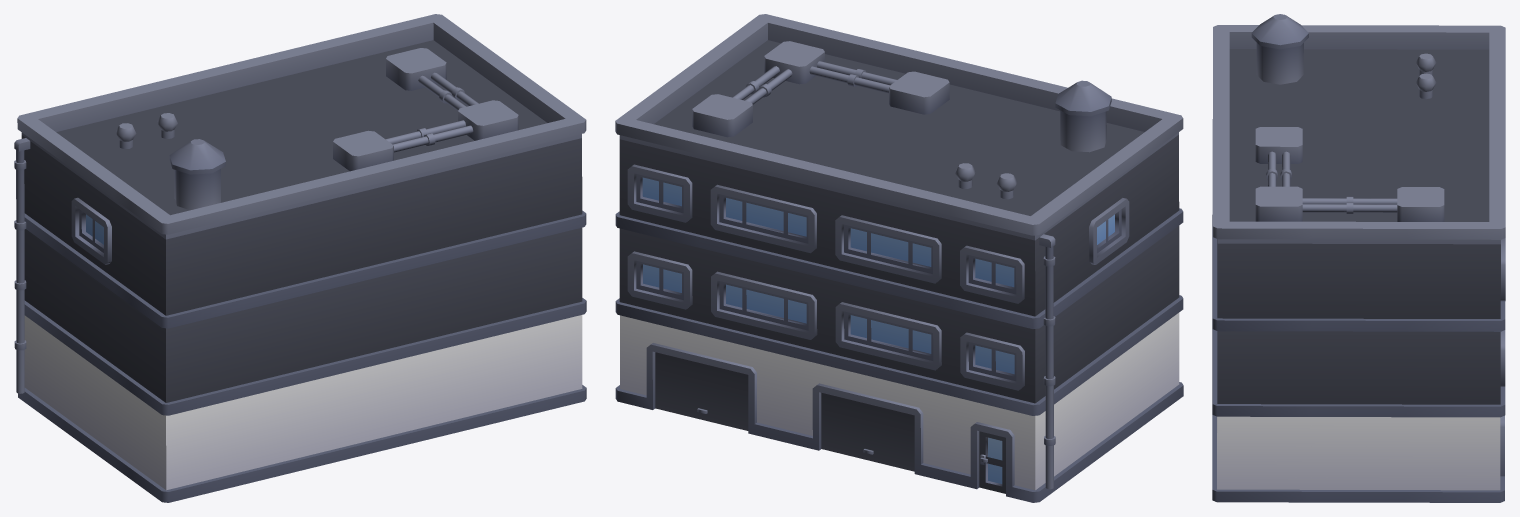
The model's file is building-a_lev1.glb.
The picture shows the model from 3 angles, left to right: view 1: azimuth 30°, elevation 25°; view 2: azimuth 150°, elevation 25°; view 3: azimuth 270°, elevation 25°; orthographic projection.
Parts seen in each view (by area): view 1: building-a_lev1; view 2: building-a_lev1; view 3: building-a_lev1.
Boxes of the visible parts, box(x1,y1,x2,y2) form: building-a_lev1: box(14, 14, 586, 502); building-a_lev1: box(615, 14, 1183, 502); building-a_lev1: box(1212, 14, 1505, 502).
Bounding box in the file's own units: 2.08 × 1.47 × 1.24.
1 material, 1 textured.
